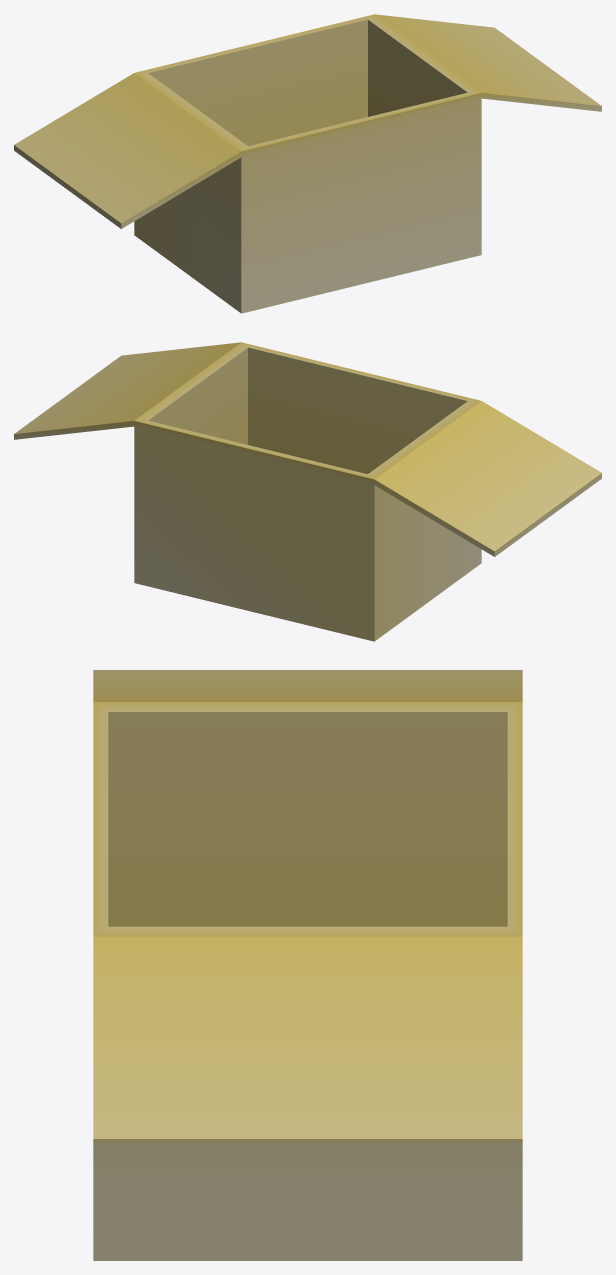
The model's file is LostAndFoundModel.fbx.
3 views of the same model, one above another, from view 1: azimuth 30°, elevation 25°; view 2: azimuth 150°, elevation 25°; view 3: azimuth 270°, elevation 25° (orthographic). The views are drawn at different scales.
Parts seen in each view (by area): view 1: LostAndFound; view 2: LostAndFound; view 3: LostAndFound.
Boxes of the visible parts, bbox=[...] form: LostAndFound: bbox=[14, 14, 601, 313]; LostAndFound: bbox=[14, 342, 601, 641]; LostAndFound: bbox=[93, 670, 522, 1260].
Bounding box in the file's own units: 83.75 × 27.01 × 32.38.
